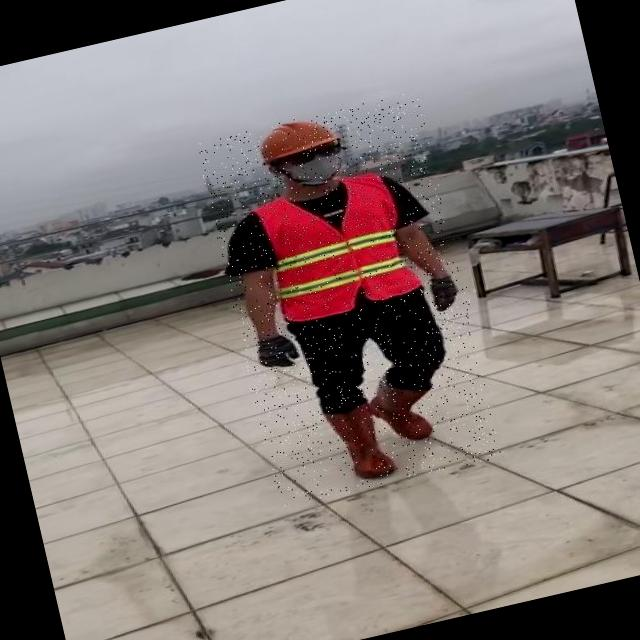boots: (361, 364, 443, 448), (324, 400, 402, 488)
gloves: (251, 327, 307, 372), (426, 270, 462, 313)
helmet: (248, 109, 346, 168)
vest: (248, 166, 426, 324)
